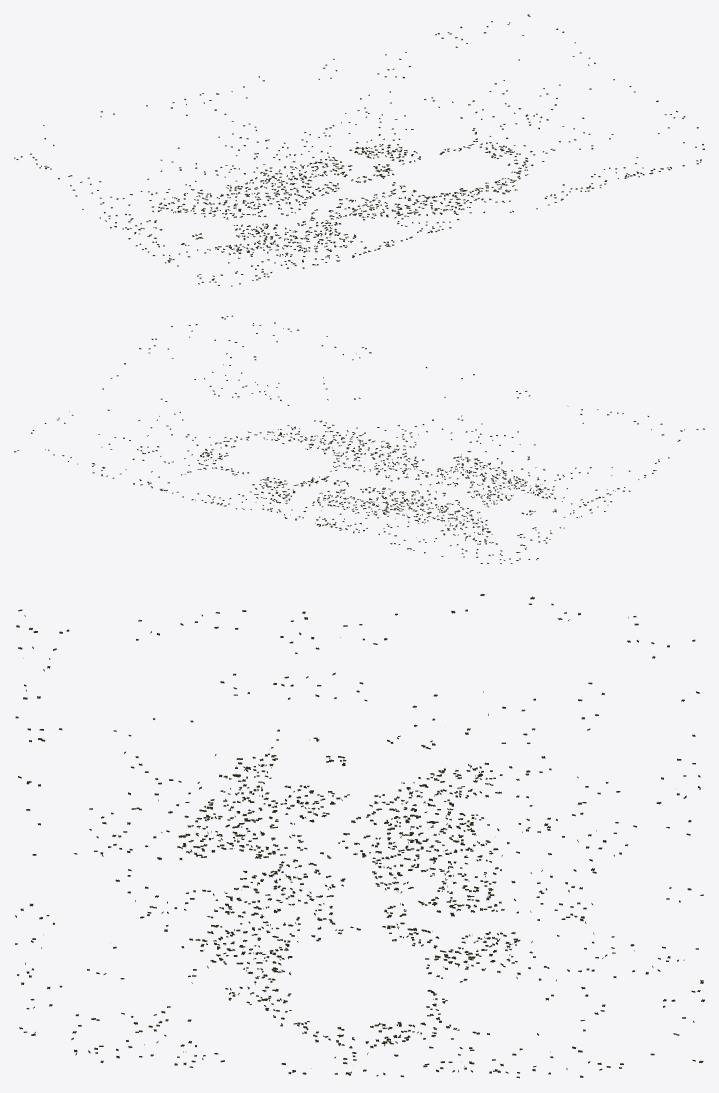
Rendered from SM_Art_Cover_L_TheNorthernOath_HeatherSprig.gltf.
3 views of the same model, one above another, from view 1: azimuth 30°, elevation 25°; view 2: azimuth 150°, elevation 25°; view 3: azimuth 270°, elevation 25° (orthographic). The views are drawn at different scales.
Parts seen in each view (by area): view 1: SM_Art_Cover_L_TheNorthernOath_HeatherSprig; view 2: SM_Art_Cover_L_TheNorthernOath_HeatherSprig; view 3: SM_Art_Cover_L_TheNorthernOath_HeatherSprig.
Part boxes in pixels (<box>): SM_Art_Cover_L_TheNorthernOath_HeatherSprig: <box>14,14,704,286</box>; SM_Art_Cover_L_TheNorthernOath_HeatherSprig: <box>14,315,704,563</box>; SM_Art_Cover_L_TheNorthernOath_HeatherSprig: <box>15,594,704,1078</box>.
Size of the model in its own units: 230 by 23.16 by 149.
1 material, 1 textured.
